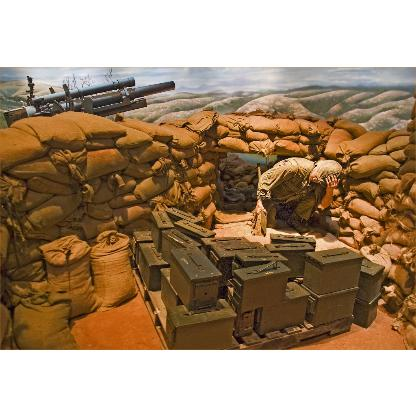gun: (9, 66, 174, 126)
